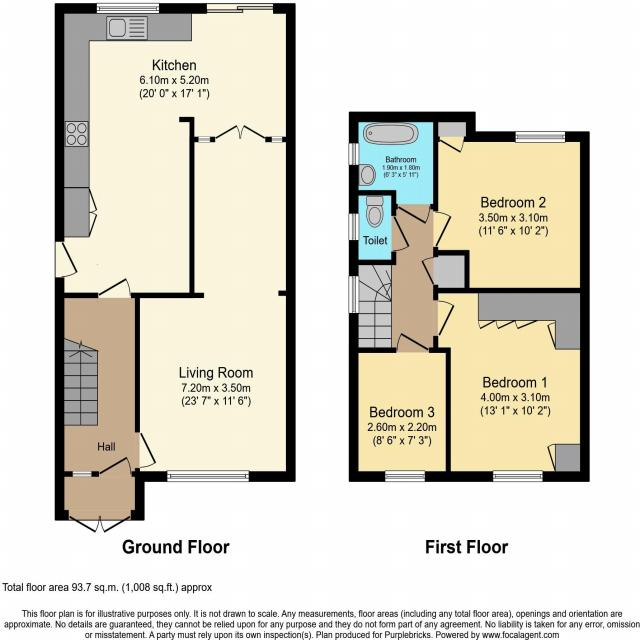DOOR: (54, 240, 80, 279), (433, 299, 457, 338), (135, 431, 158, 469), (95, 276, 132, 299), (97, 455, 133, 477), (395, 331, 430, 353), (396, 203, 431, 225), (433, 210, 453, 248), (391, 215, 410, 253)
DOUBLE DOOR: (212, 121, 267, 142)
ROOM: (54, 2, 297, 299), (135, 124, 296, 482), (433, 288, 590, 482), (433, 131, 590, 293), (348, 331, 451, 482)
WINDOW: (166, 470, 250, 482), (96, 2, 160, 14), (492, 469, 544, 483), (515, 131, 566, 143), (384, 470, 426, 483), (348, 275, 360, 315), (348, 212, 360, 241), (348, 143, 360, 166), (72, 471, 92, 477), (198, 136, 211, 143), (271, 136, 283, 143)
